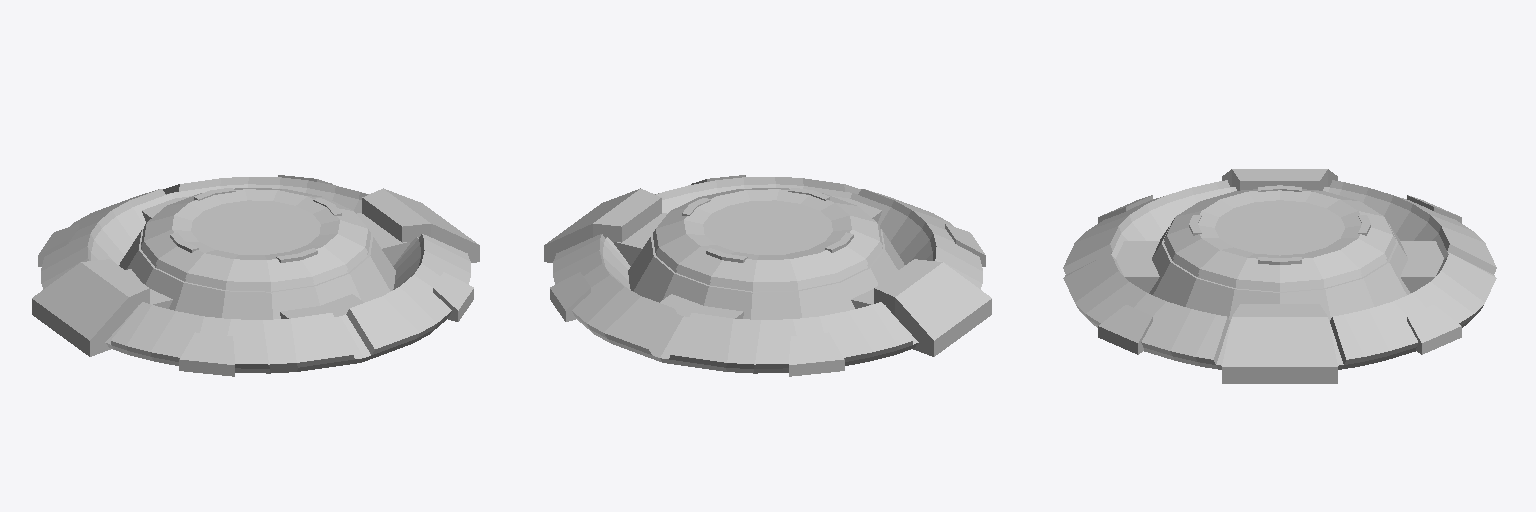
Rendered from Turret_Cannon_Base_Cylinder_030.obj.
3 renders of one model, left to right at view 1: azimuth 30°, elevation 25°; view 2: azimuth 150°, elevation 25°; view 3: azimuth 270°, elevation 25°, orthographic.
Parts seen in each view (by area): view 1: Turret_Cannon_Base_Cylinder.030; view 2: Turret_Cannon_Base_Cylinder.030; view 3: Turret_Cannon_Base_Cylinder.030.
Boxes of the visible parts, box(x1,y1,x2,y2) form: Turret_Cannon_Base_Cylinder.030: box(32, 175, 479, 376); Turret_Cannon_Base_Cylinder.030: box(544, 175, 991, 376); Turret_Cannon_Base_Cylinder.030: box(1063, 169, 1496, 383).
Bounding box in the file's own units: 1.16 × 0.1832 × 1.11.